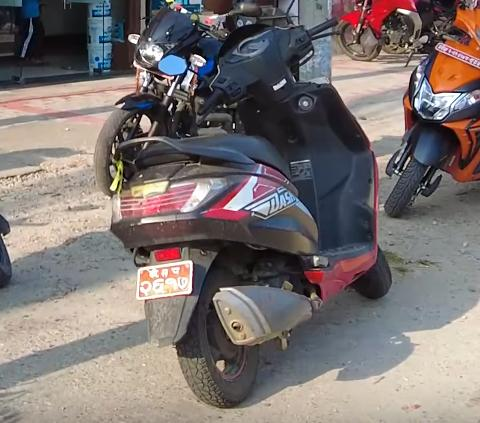scooter: (104, 14, 395, 408), (378, 4, 480, 217)
